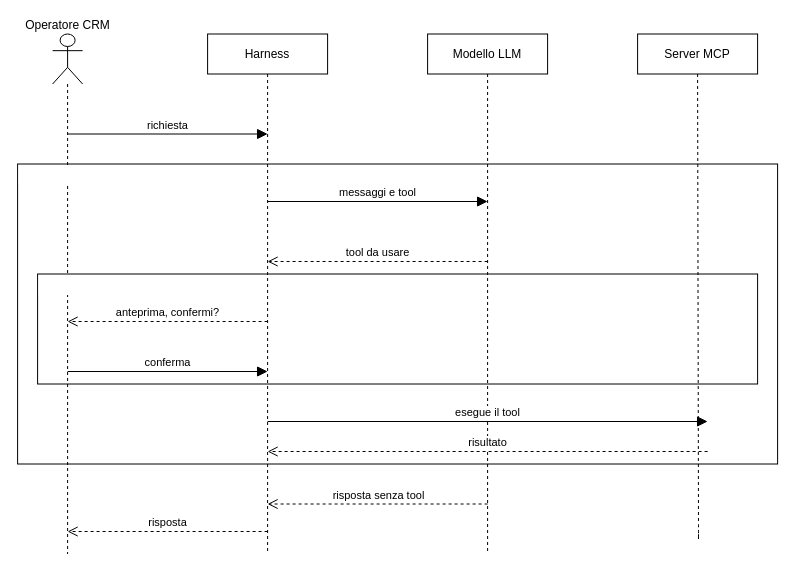
The diagram is 795 pixels wide and 573 high, and some of its shapes have lost their labels. Here are the shapes that lost their labels. From the top down, the box of each, then its label:
(18, 164, 138, 184): loop [max 8 giri]
(38, 274, 188, 294): opt [tool di scrittura]
